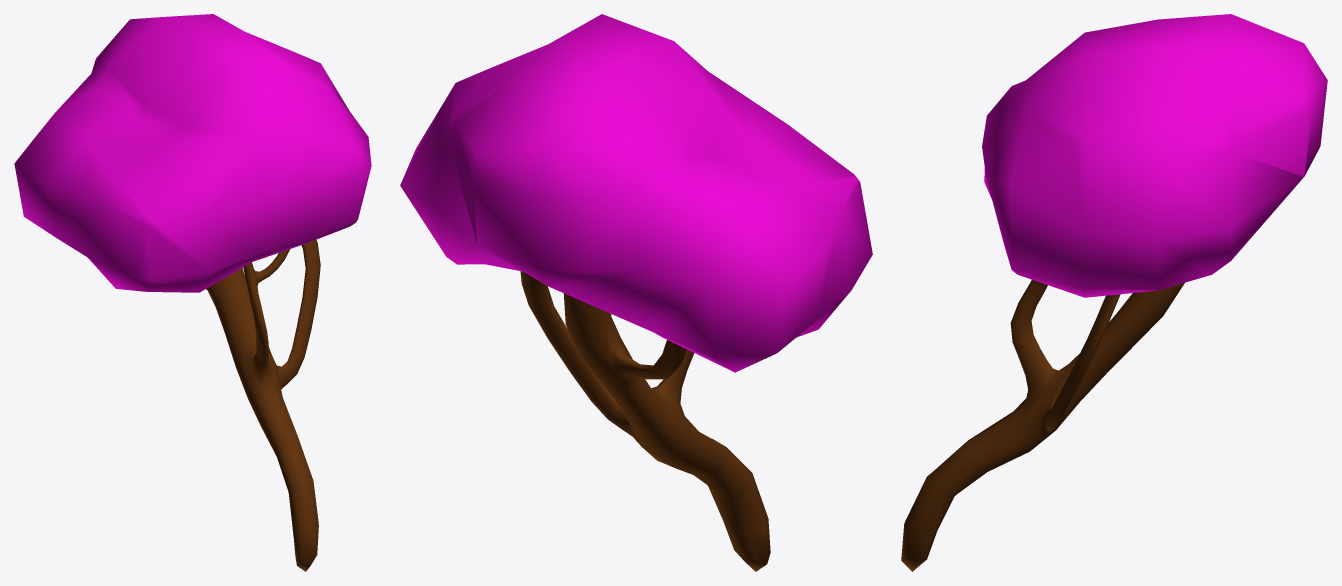
Rendered from uproot1.fbx.
The picture shows the model from 3 angles, left to right: view 1: azimuth 30°, elevation 25°; view 2: azimuth 150°, elevation 25°; view 3: azimuth 270°, elevation 25°; orthographic projection. The views are drawn at different scales.
Parts seen in each view (by area): view 1: Uproot1; view 2: Uproot1; view 3: Uproot1.
Boxes of the visible parts, x1=… form: Uproot1: x1=14, y1=14, x2=371, y2=571; Uproot1: x1=400, y1=14, x2=872, y2=571; Uproot1: x1=901, y1=14, x2=1327, y2=571.
Size of the model in its own units: 120 by 174 by 122.
